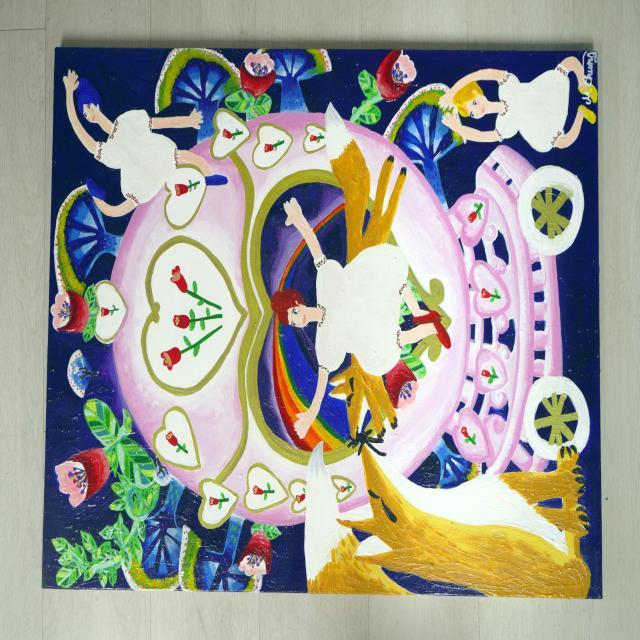painting: (43, 48, 601, 598)
